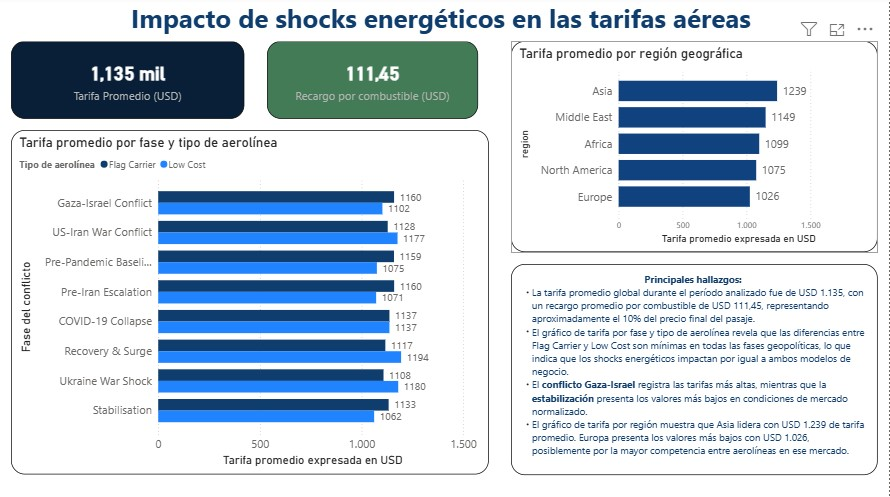

The page's visual inventory and layout, read from the dashboard file:
{"tool":"powerbi","page":{"name":"Página 1","canvas":[1280,720],"ordinal":0},"visuals":[{"type":"card","fields":{"Values":["airline_ticket_prices.Tarifa Promedio Total (USD)"]},"box":[16,64,336,112],"z":0},{"type":"card","fields":{"Values":["airline_ticket_prices.Recargo Promedio Combustible (USD)"]},"box":[384,64,304,112],"z":1000},{"type":"textbox","box":[0,0,1280,64],"z":2000},{"type":"clusteredBarChart","title":"Tarifa promedio por fase y tipo de aerolínea","fields":{"Category":["airline_ticket_prices.conflict_phase"],"Series":["airline_ticket_prices.airline_type"],"Y":["Avg(airline_ticket_prices.total_fare_usd)"]},"box":[16,192,688,496],"z":3000},{"type":"barChart","title":"Tarifa promedio por región geográfica","fields":{"Category":["airline_ticket_prices.region"],"Y":["Avg(airline_ticket_prices.total_fare_usd)"]},"box":[736,64,528,304],"z":4000},{"type":"textbox","box":[736,384,528,304],"z":5000}]}

Visuals, with their boxes in screenshot pixels (x1, y1, x2, y2), scaled from the page's 1280x720 canvas onto the 890x497 screenshot:
card - airline_ticket_prices.Tarifa Promedio Total (USD): region(11, 44, 245, 121)
card - airline_ticket_prices.Recargo Promedio Combustible (USD): region(267, 44, 478, 121)
textbox: region(0, 0, 889, 44)
"Tarifa promedio por fase y tipo de aerolínea" clusteredBarChart: region(11, 133, 490, 475)
"Tarifa promedio por región geográfica" barChart: region(512, 44, 879, 254)
textbox: region(512, 265, 879, 475)
